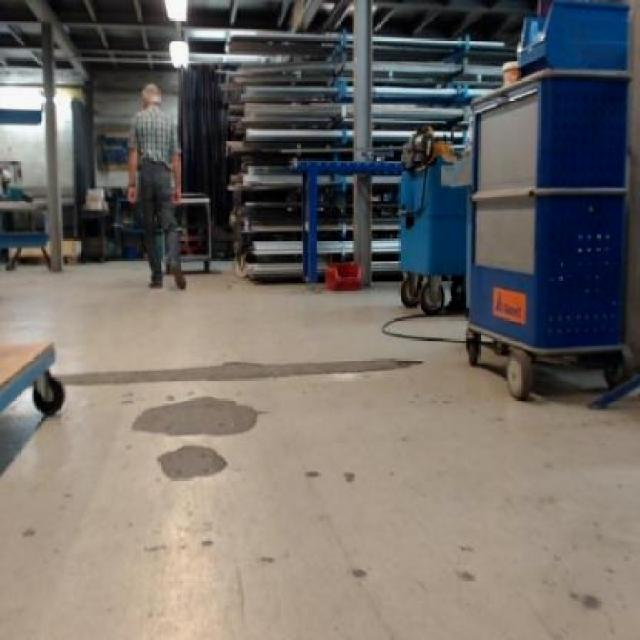floor: (0, 260, 637, 637), (394, 312, 462, 335)
pallets: (465, 2, 626, 395), (465, 68, 625, 395)
